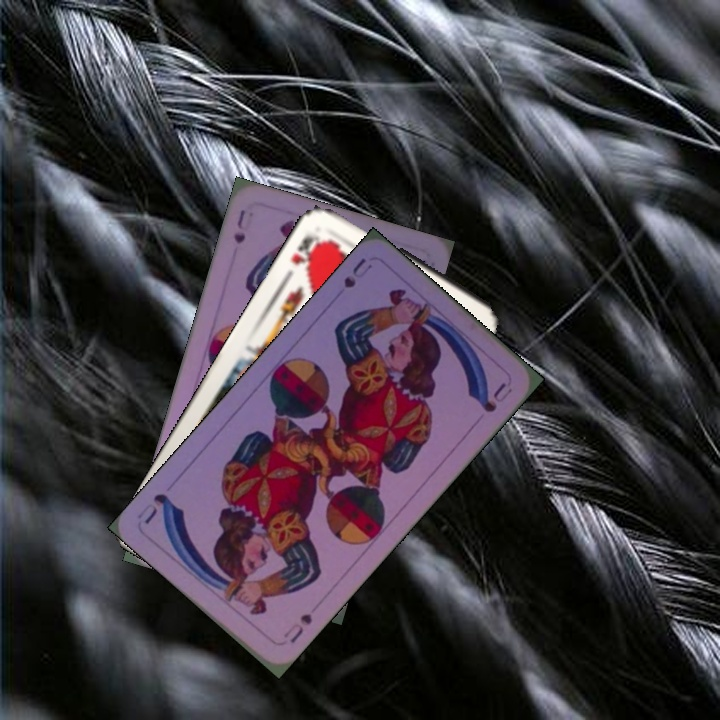HK: (286, 231, 326, 272)
SU: (339, 253, 375, 291), (279, 609, 315, 646), (229, 205, 249, 246)
